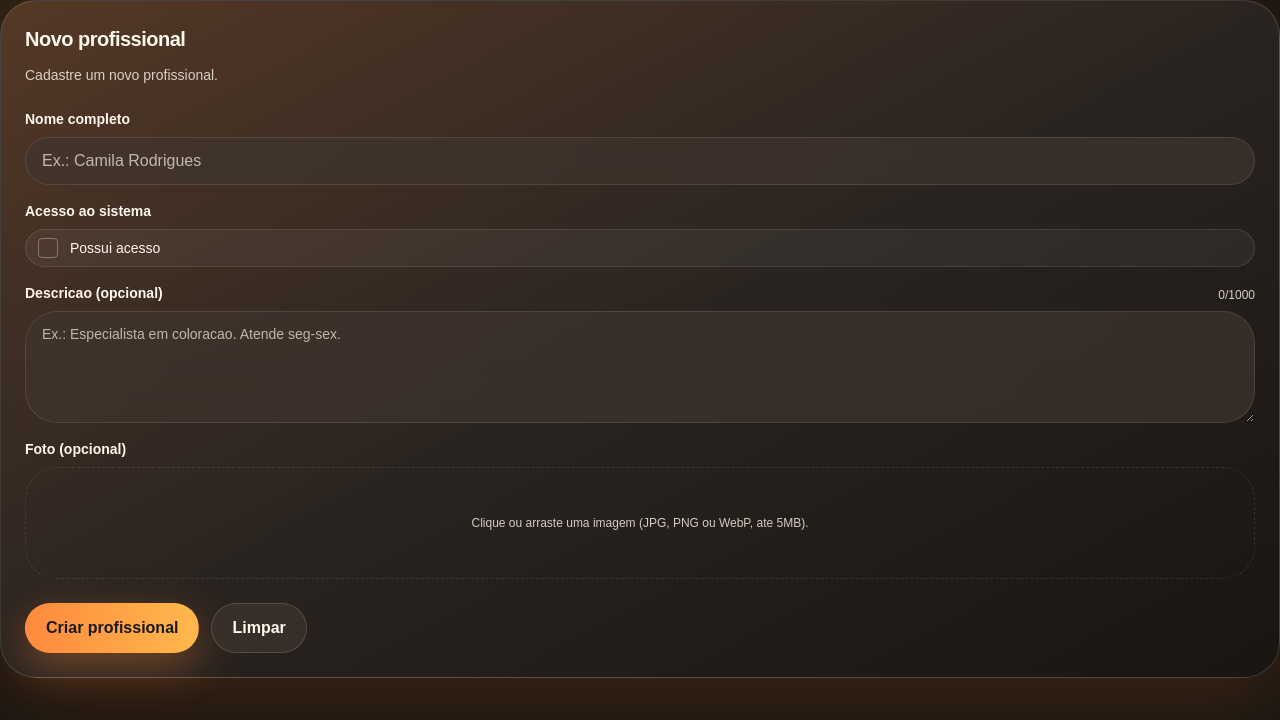
it: ProfessionalForm › renderiza o modo de criacao com a CTA correta
Expected: the heading "Novo profissional" is shown, [25,28,185,50]
Expected: the field labelled "Email do profissional" is not shown
Click the checkbox named "Possui acesso ao sistema": point(48, 248) [38,238,58,258]
(page scrolled)
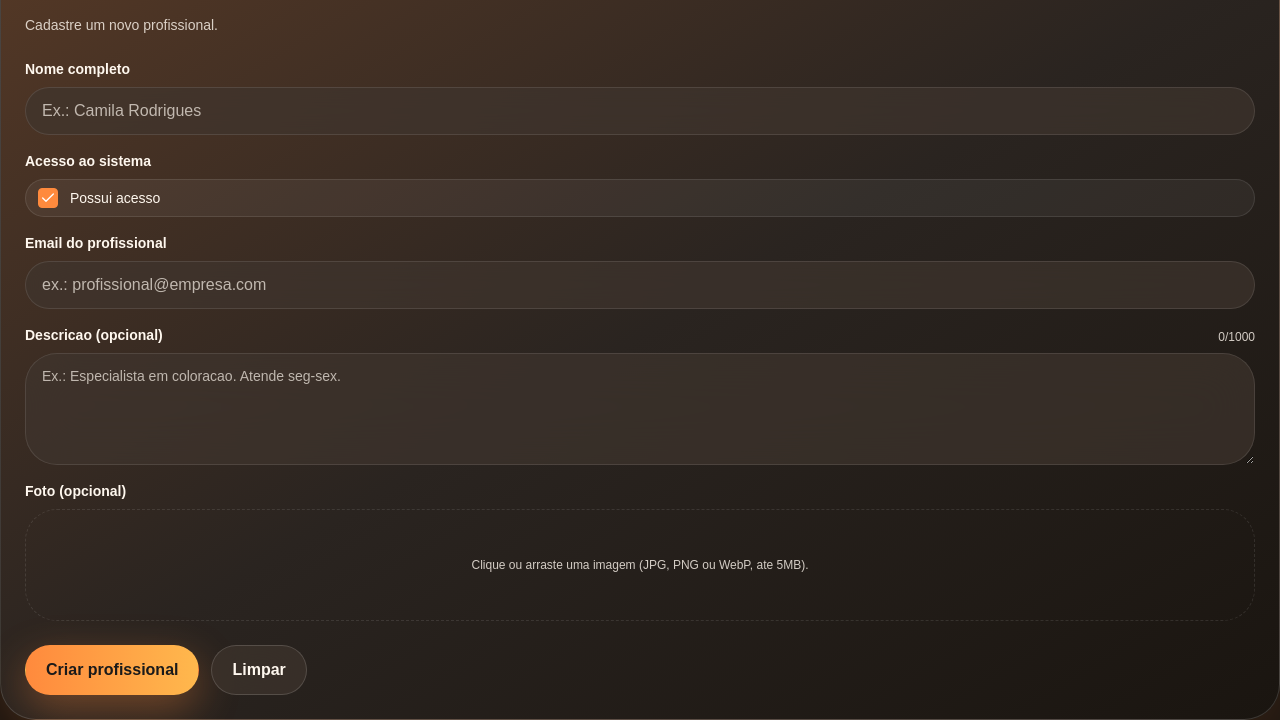
Expected: the button "Criar profissional" is shown, [25,645,200,695]
Now the field labelled "Email do profissional" is shown, box [25,261,1255,309]
